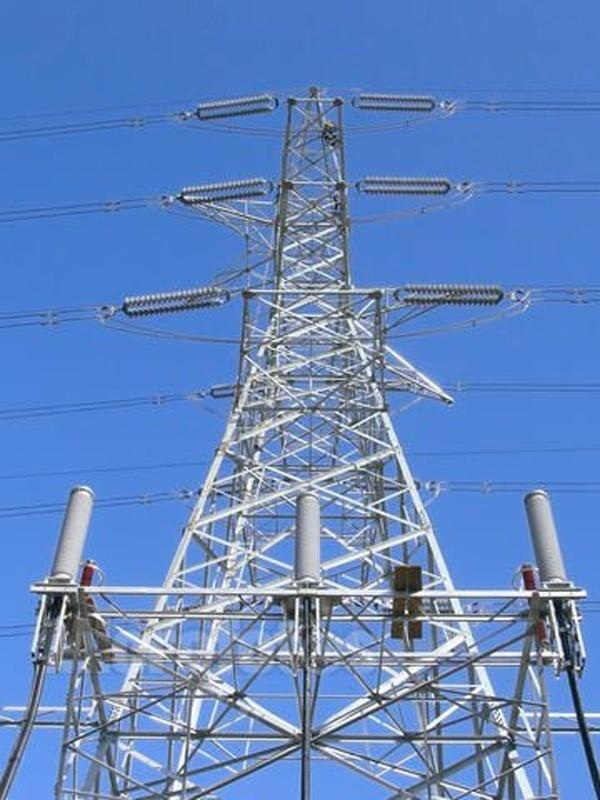power_tower: (119, 61, 512, 735)
